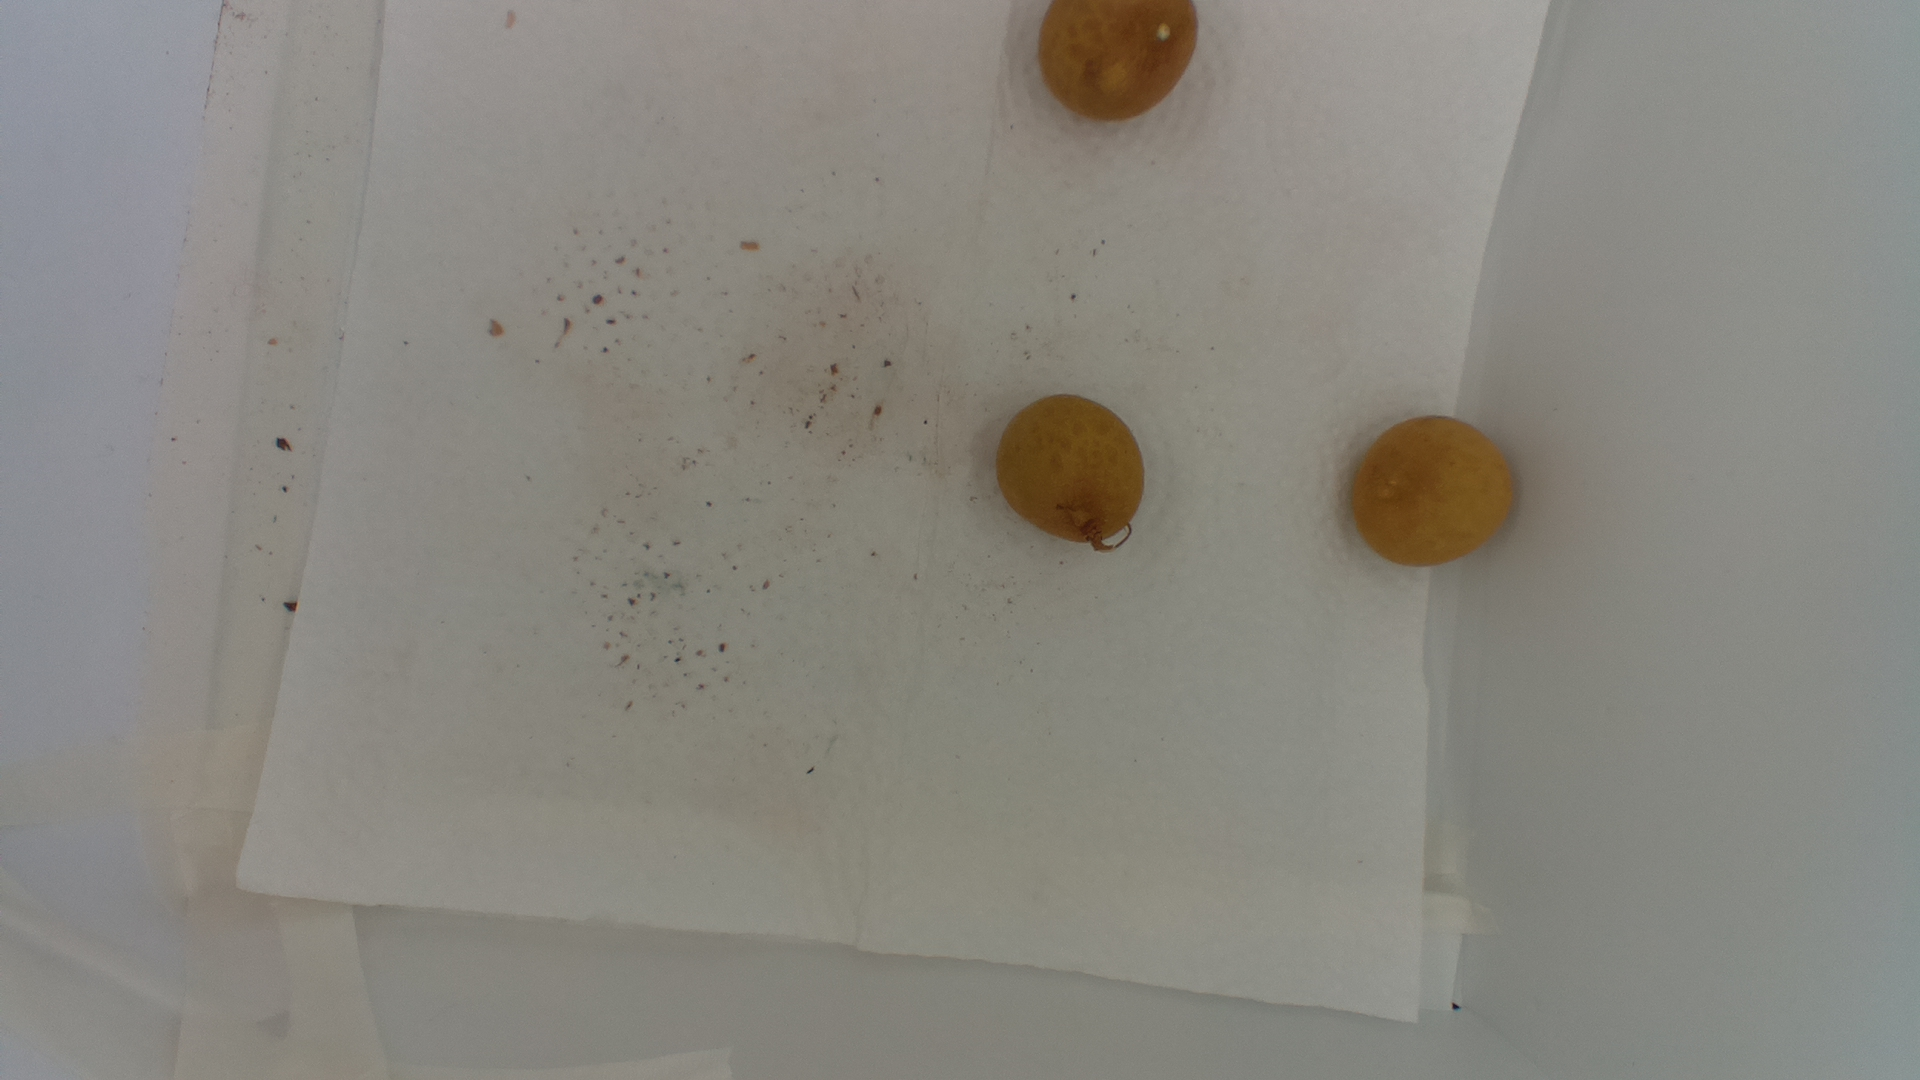fruit: (1345, 413, 1523, 568), (992, 393, 1147, 558), (1036, 1, 1196, 127)
